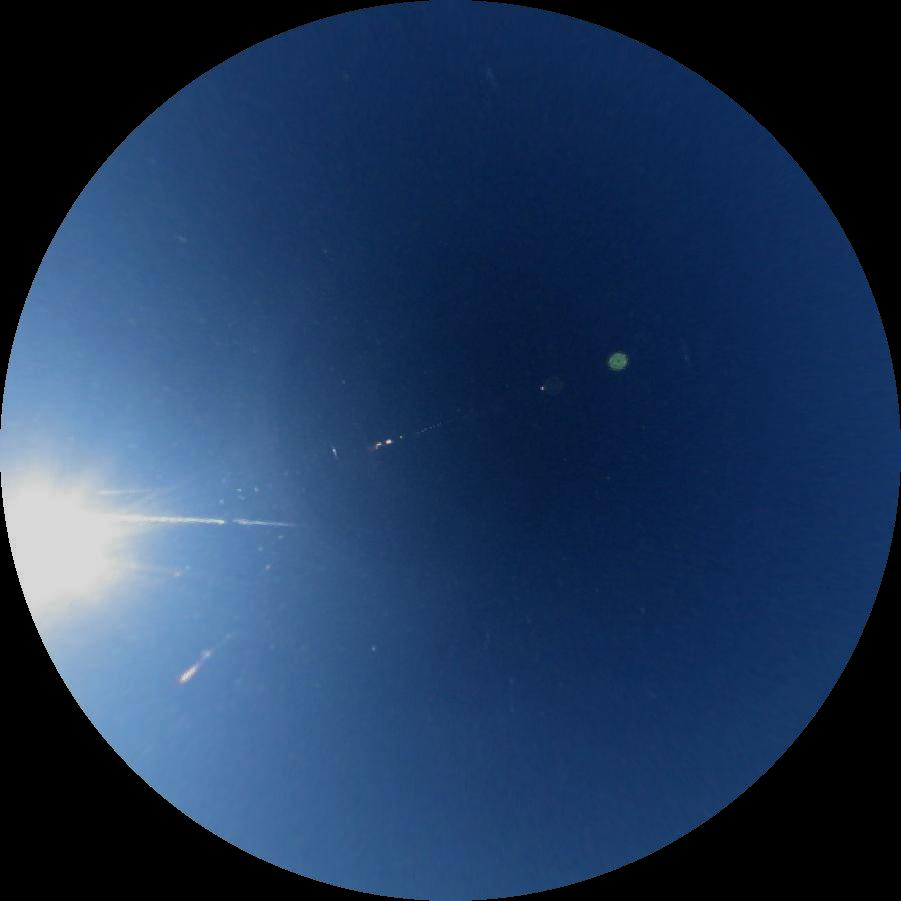parasite: (111, 512, 297, 535), (172, 625, 239, 687)
sun: (0, 473, 136, 635)
unknow: (96, 485, 155, 496)
